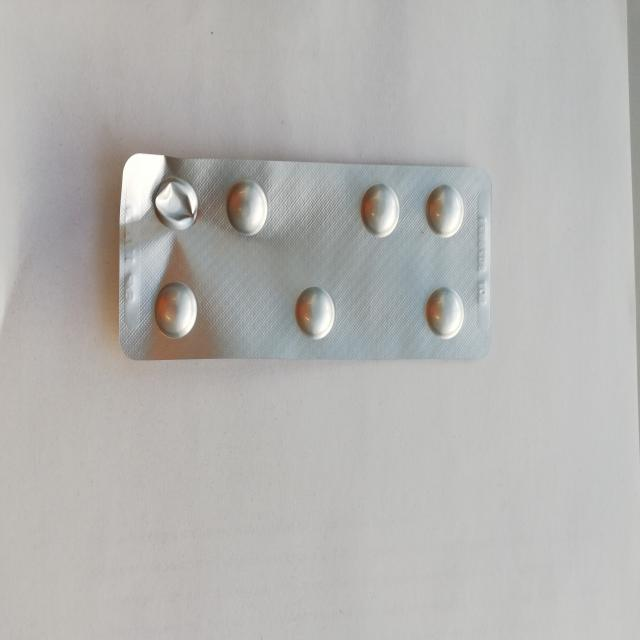Empty: (151, 174, 201, 237)
Pill: (148, 278, 201, 344), (222, 176, 272, 240), (292, 283, 340, 346), (423, 281, 469, 346), (358, 180, 402, 240), (422, 181, 466, 241)
